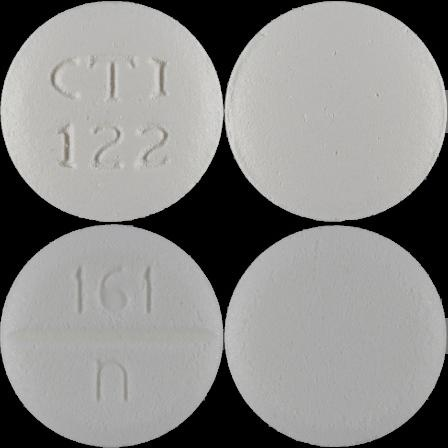43063-696: (0, 0, 224, 224)
